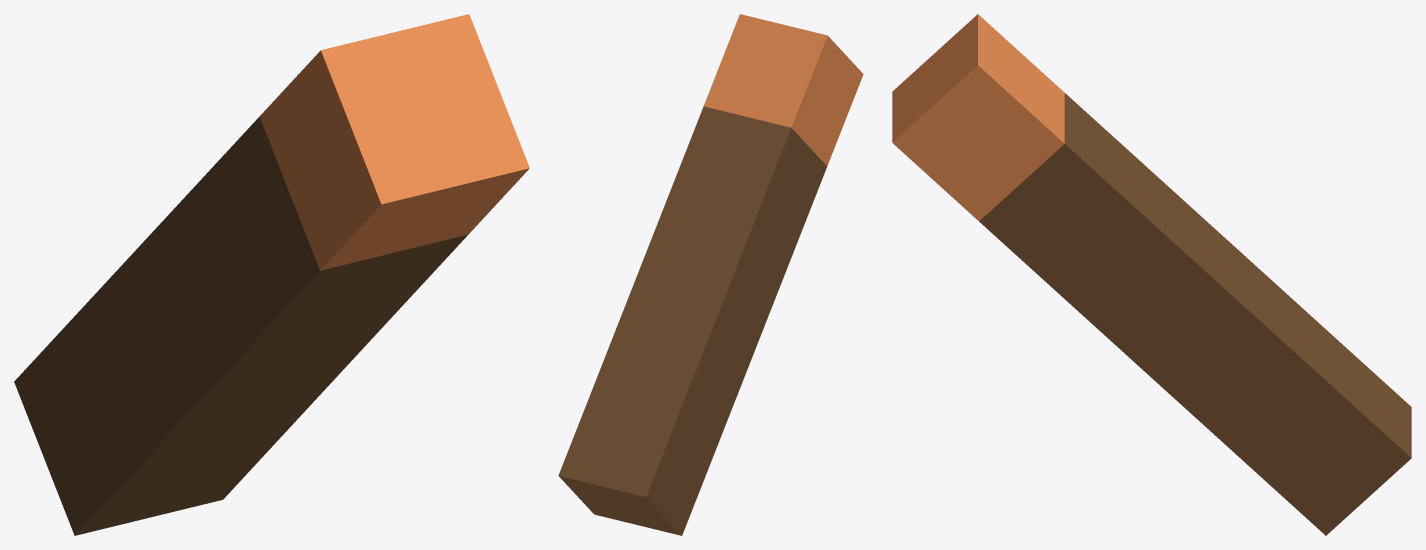
Rendered from torch.fbx.
3 views of the same model, side by side, from view 1: azimuth 30°, elevation 25°; view 2: azimuth 150°, elevation 25°; view 3: azimuth 270°, elevation 25° (orthographic). The views are drawn at different scales.
Parts seen in each view (by area): view 1: Cube.016; view 2: Cube.016; view 3: Cube.016.
Boxes of the visible parts, left/top/right/bottom form: Cube.016: left=14, top=14, right=529, bottom=535; Cube.016: left=558, top=14, right=863, bottom=535; Cube.016: left=892, top=14, right=1411, bottom=535.
Bounding box in the file's own units: 82.39 × 353 × 353.
